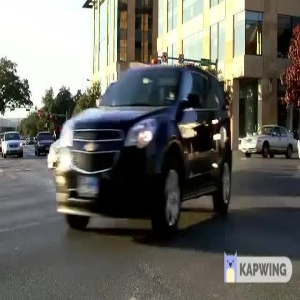car: (237, 113, 297, 162)
suv: (52, 63, 238, 237)
